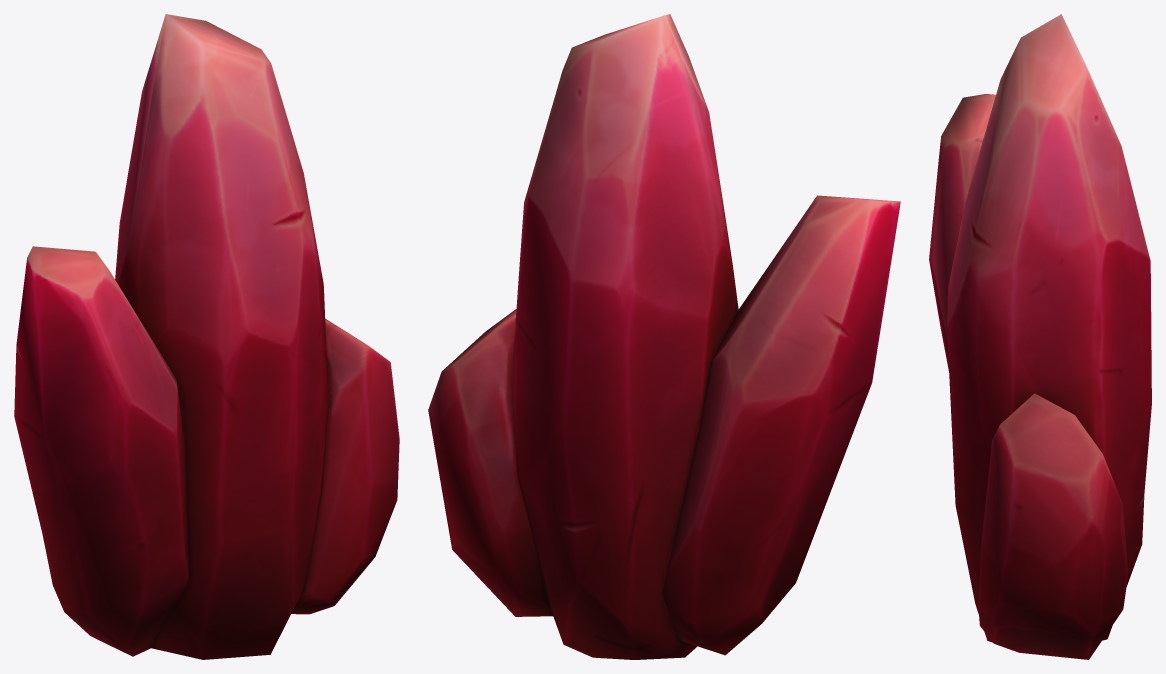
Rendered from SM_Gem_Ruby_008.fbx.
3 views of the same model, side by side, from view 1: azimuth 30°, elevation 25°; view 2: azimuth 150°, elevation 25°; view 3: azimuth 270°, elevation 25° (orthographic). The views are drawn at different scales.
Parts seen in each view (by area): view 1: SM_Gem_Ruby_008; view 2: SM_Gem_Ruby_008; view 3: SM_Gem_Ruby_008.
Boxes of the visible parts, x1,y1,x2,y2 form: SM_Gem_Ruby_008: [14, 14, 399, 659]; SM_Gem_Ruby_008: [428, 14, 900, 659]; SM_Gem_Ruby_008: [929, 14, 1151, 659].
Size of the model in its own units: 47.89 by 72.5 by 24.25.
